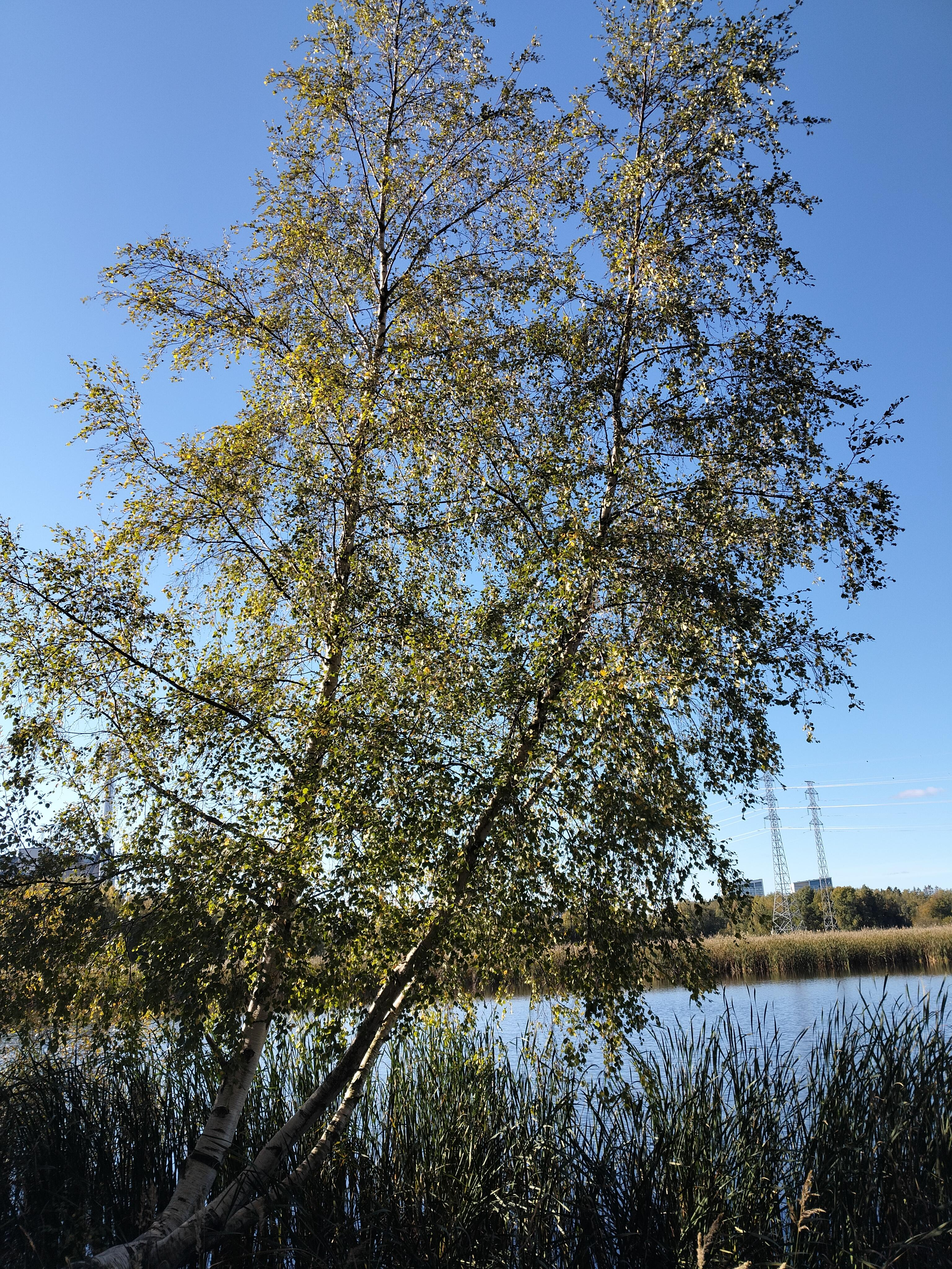Birch: (2, 1, 910, 1266)
